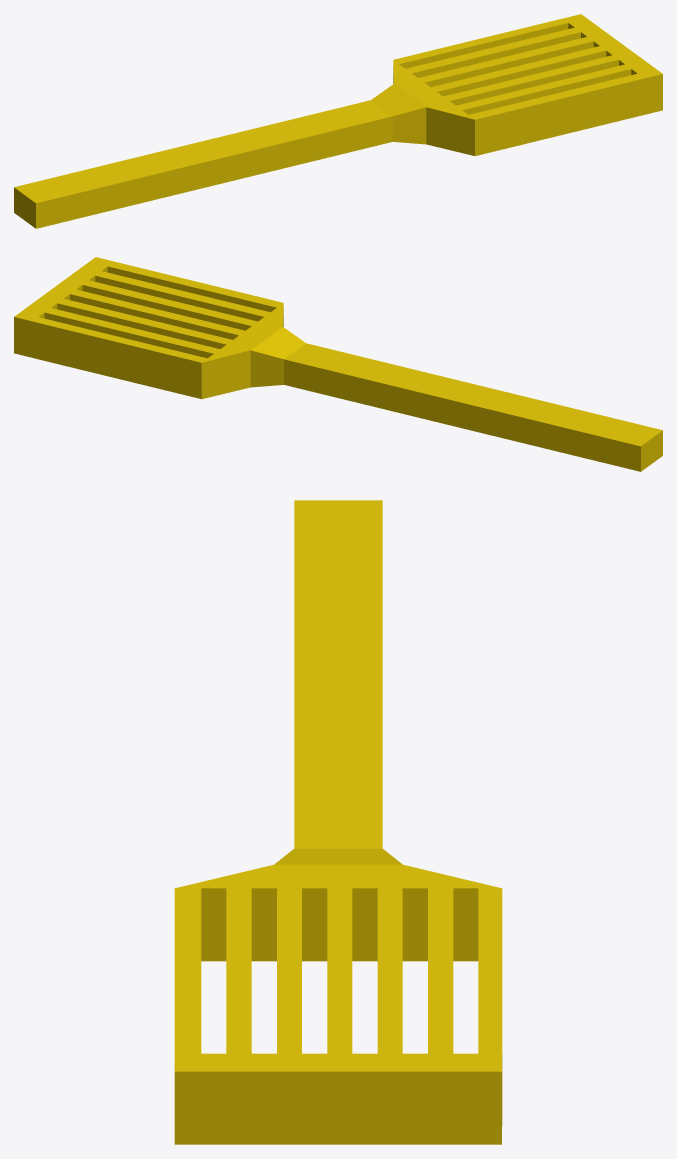
Rendered from spatula.fbx.
3 views of the same model, one above another, from view 1: azimuth 30°, elevation 25°; view 2: azimuth 150°, elevation 25°; view 3: azimuth 270°, elevation 25° (orthographic). The views are drawn at different scales.
Parts seen in each view (by area): view 1: Cube; view 2: Cube; view 3: Cube.
Boxes of the visible parts, bbox=[...] form: Cube: bbox=[14, 14, 662, 228]; Cube: bbox=[14, 257, 662, 471]; Cube: bbox=[174, 500, 502, 1144].
Bounding box in the file's own units: 85.05 × 5.07 × 20.2.
